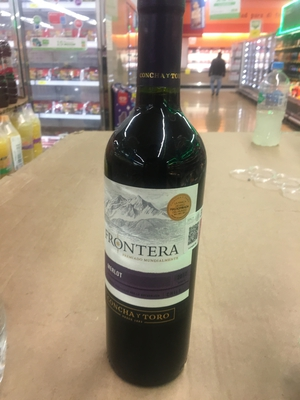frontera merlot: (92, 11, 221, 363)
